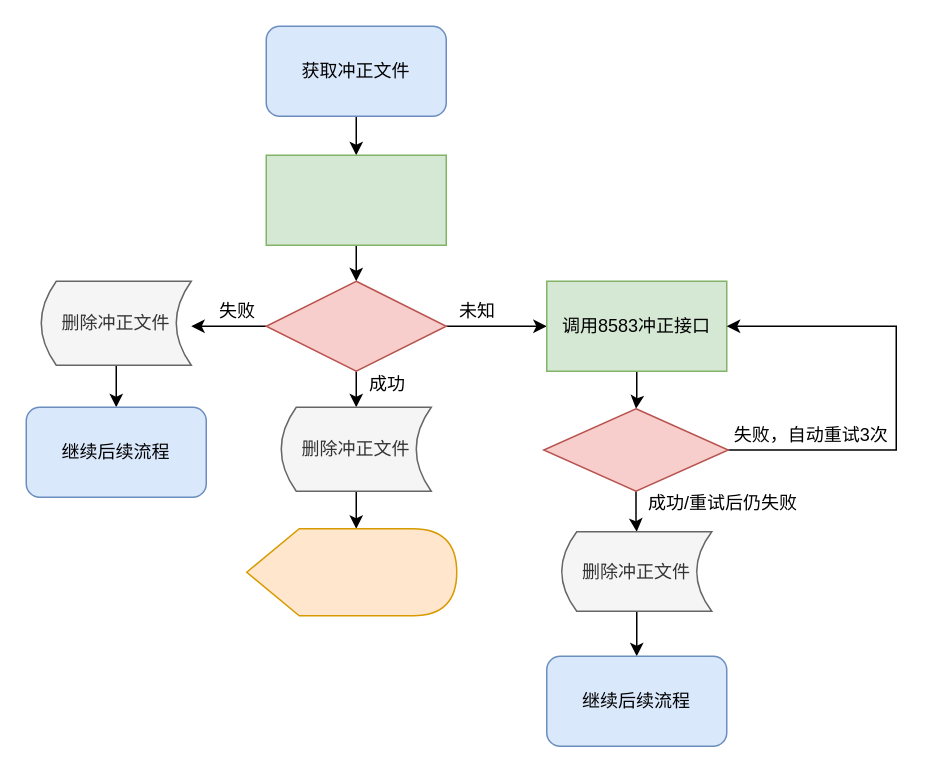
Some shapes in this 935 by 773 pixel diagram are drawn without their labels. The centre of each missing label's shape, as x and y in pixels:
"冲正结果" goes at point 635,449.
"扫码支付结果" goes at point 355,325.
"提示上笔交易成功 去订单详情补打小票 点击自动跳转订单详情" goes at point 351,571.
"调用8583查询接口" goes at point 355,199.
